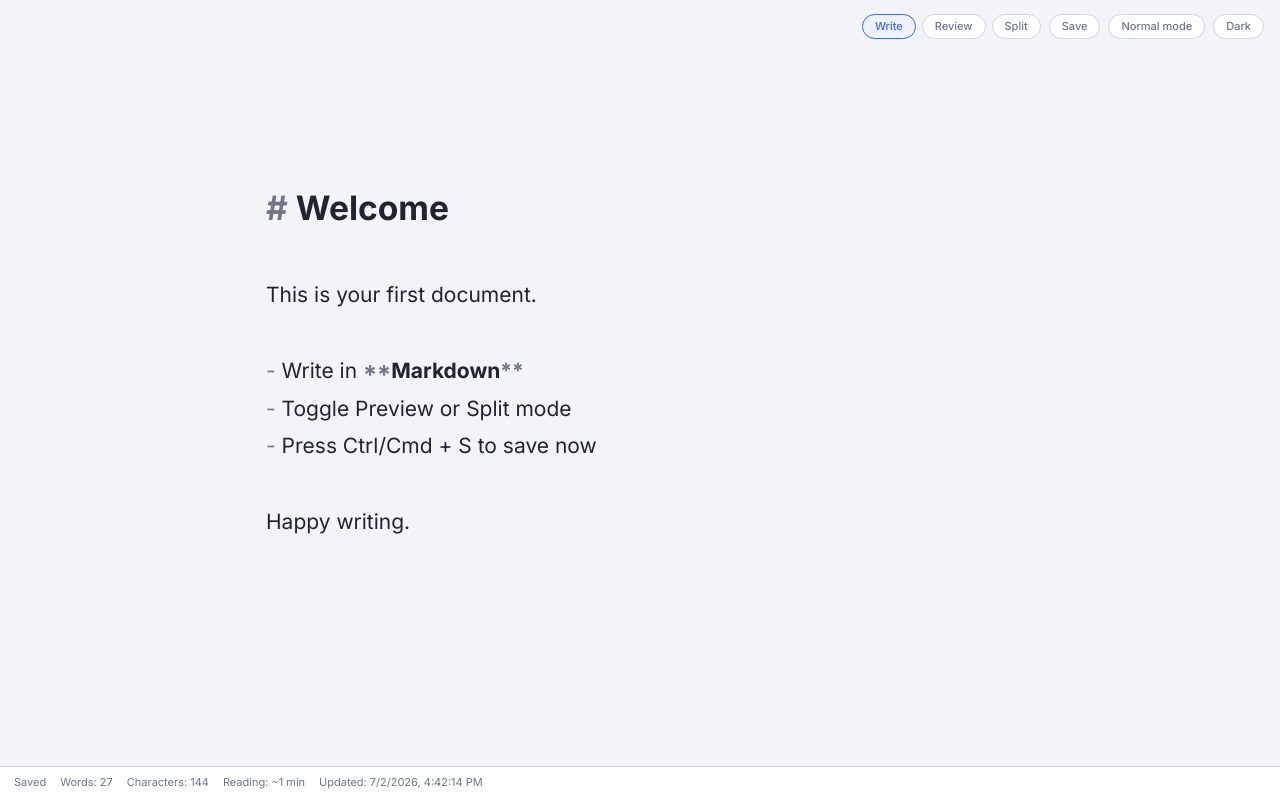
Test: App — settings › restores the document list after closing settings
The image size is (1280, 800).
Click the button "Normal mode": coordinates (1157, 26) [1108, 14, 1205, 39]
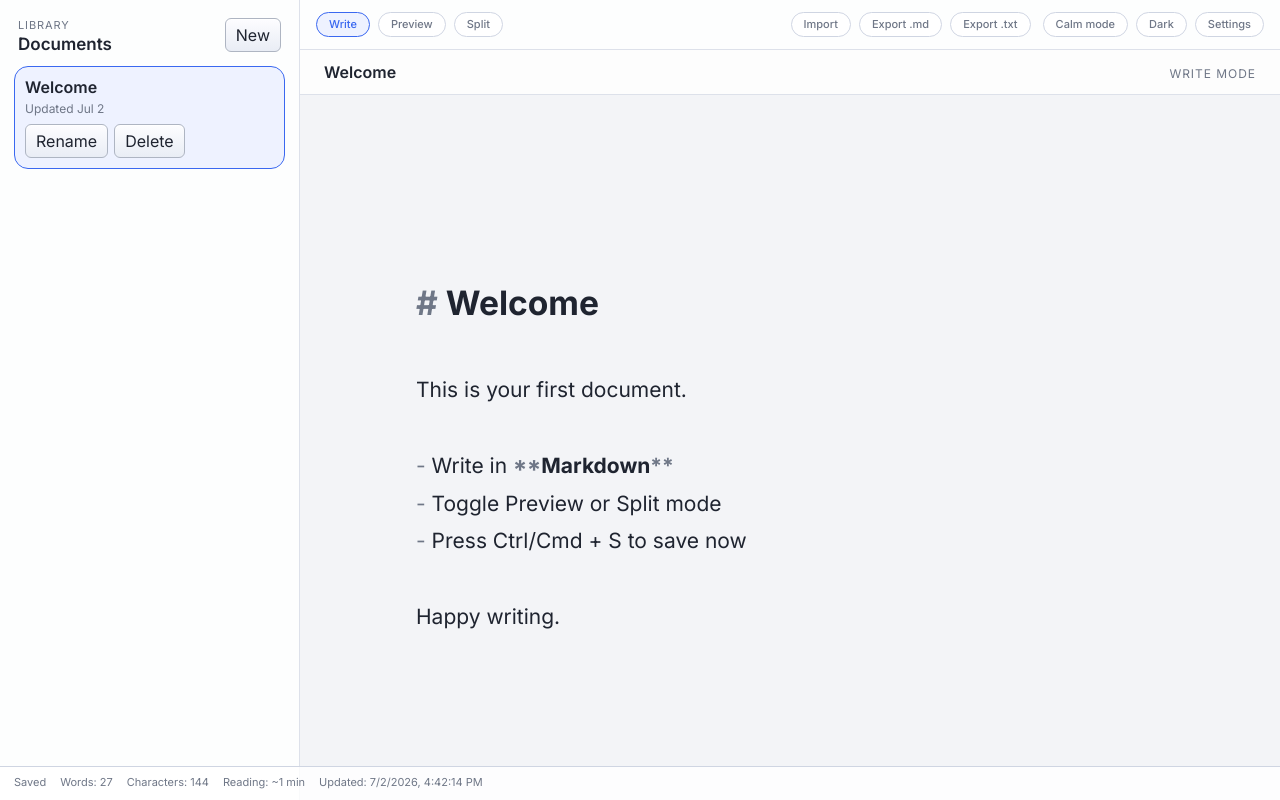
Click the button "Settings": coordinates (1229, 24) [1195, 12, 1264, 37]
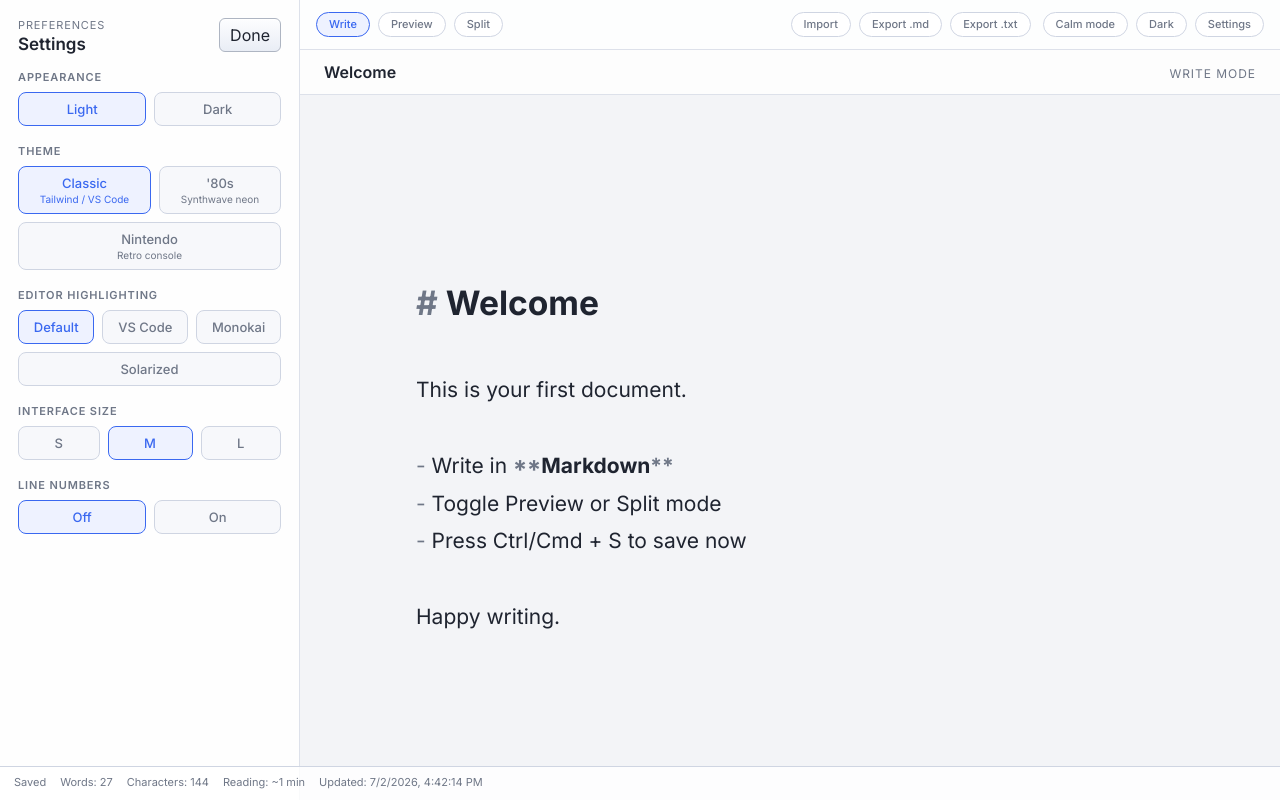
Click the button with aria-label "Close settings": coordinates (250, 35) [219, 18, 281, 52]
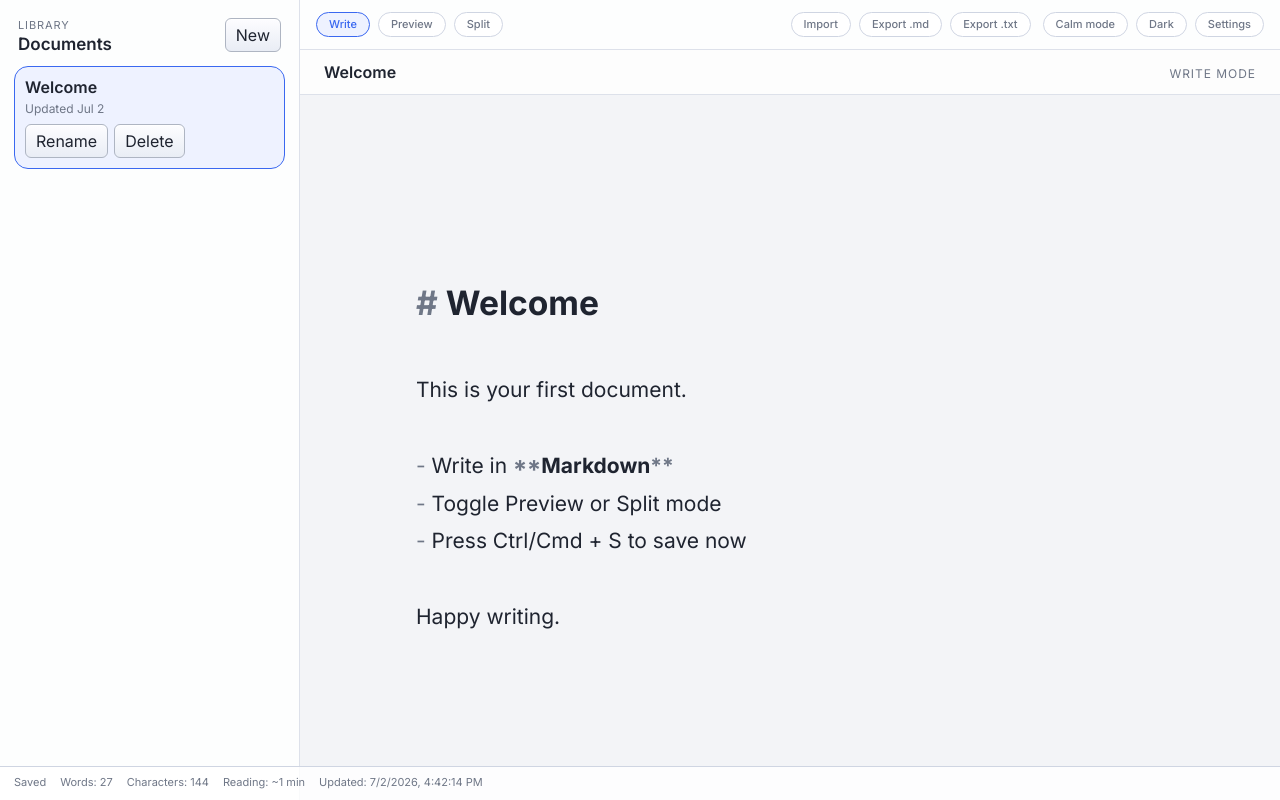
Result: the heading "Documents" is shown at [18, 34, 112, 54]
